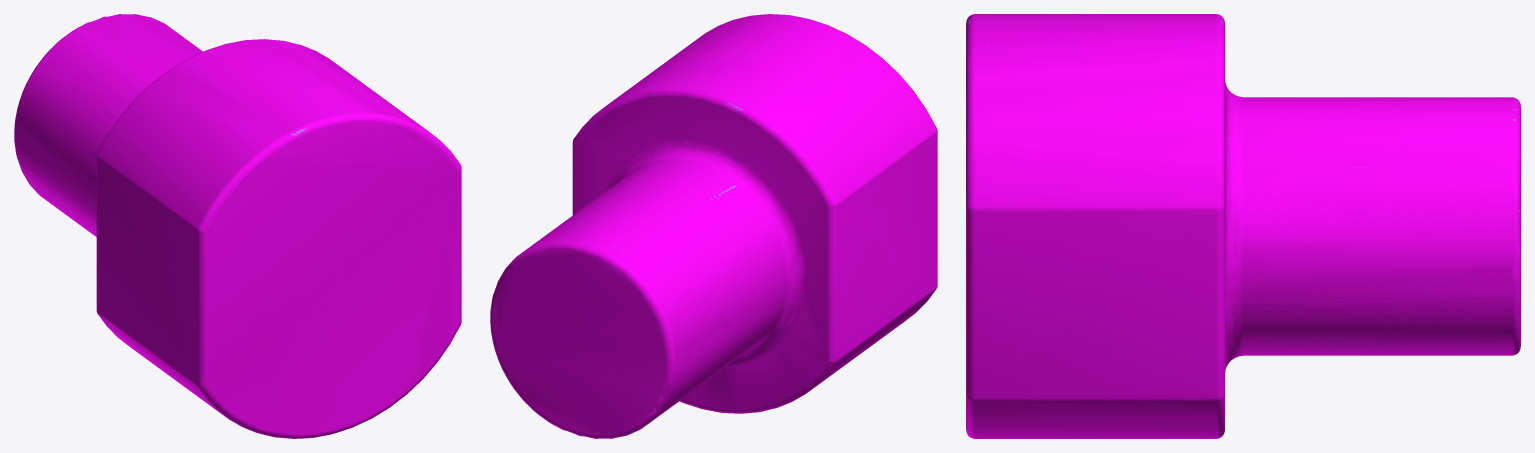
File: UVMappedStopfen_m.obj
The picture shows the model from 3 angles, left to right: view 1: azimuth 30°, elevation 25°; view 2: azimuth 150°, elevation 25°; view 3: azimuth 270°, elevation 25°; orthographic projection. The views are drawn at different scales.
Parts seen in each view (by area): view 1: Pressteil_GUmProDig_V1_m; view 2: Pressteil_GUmProDig_V1_m; view 3: Pressteil_GUmProDig_V1_m.
Part boxes in pixels (x1=…): Pressteil_GUmProDig_V1_m: x1=14, y1=14, x2=461, y2=438; Pressteil_GUmProDig_V1_m: x1=490, y1=14, x2=937, y2=438; Pressteil_GUmProDig_V1_m: x1=966, y1=14, x2=1520, y2=438.
Bounding box in the file's own units: 0.02 × 0.023 × 0.03.
1 material, 1 textured.
